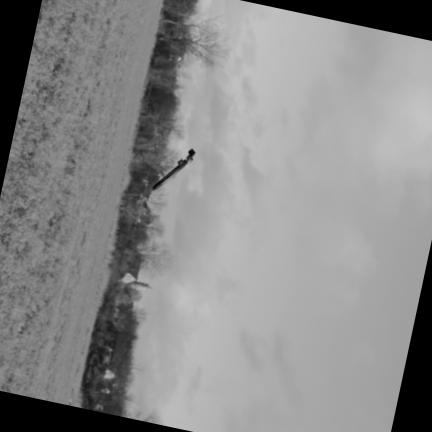Shahed: (152, 150, 194, 189)
